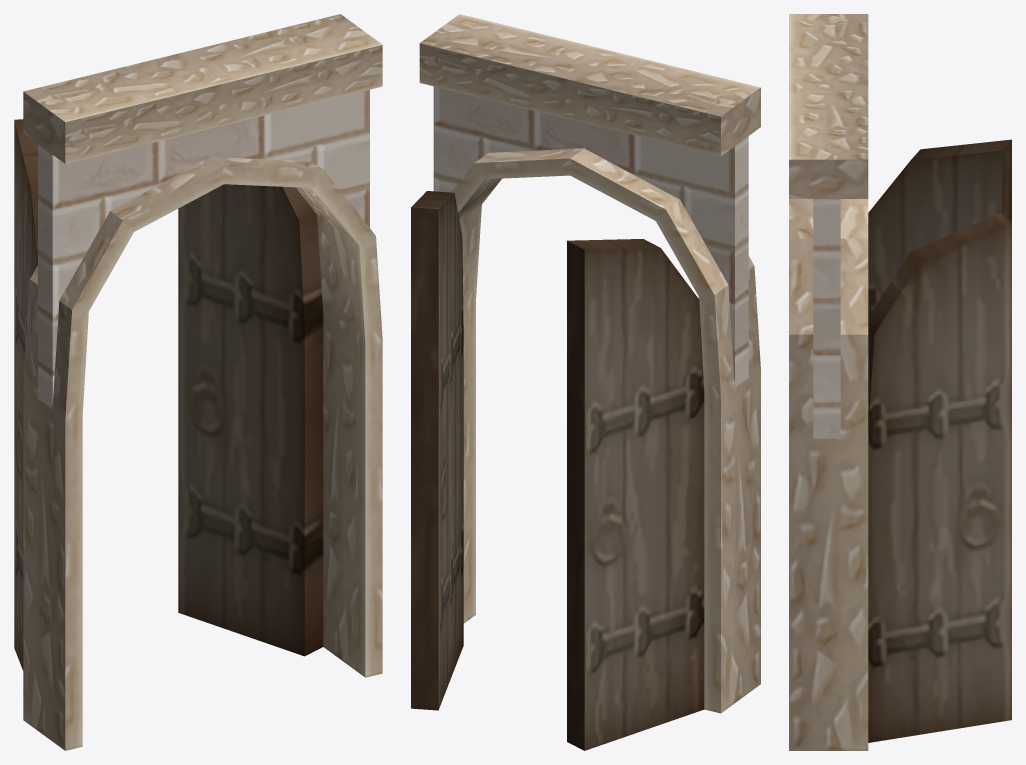
File: tower_door_HD.fbx
3 views of the same model, side by side, from view 1: azimuth 30°, elevation 25°; view 2: azimuth 150°, elevation 25°; view 3: azimuth 270°, elevation 25° (orthographic). The views are drawn at different scales.
Visible parts, largest first — view 1: door_frame, door_R, door_L; view 2: door_frame, door_L, door_R; view 3: door_R, door_frame, door_L.
Boxes of the visible parts, x1,y1,x2,y2 form: door_frame: (23,14,382,750); door_R: (178,184,323,656); door_L: (14,119,37,670); door_frame: (419,14,760,713); door_L: (567,239,704,750); door_R: (411,191,463,710); door_R: (868,213,1011,742); door_frame: (789,14,868,750); door_L: (868,139,1011,316).
Size of the model in its own units: 1 by 1.89 by 0.6466.
